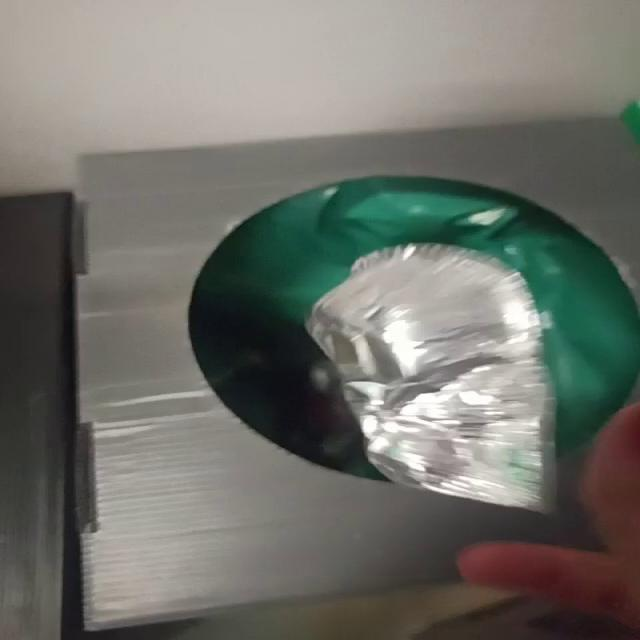bin: (79, 120, 639, 630)
metal: (307, 244, 556, 512)
